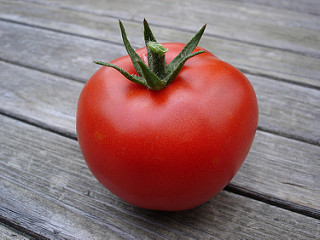tomato: (76, 30, 258, 210)
